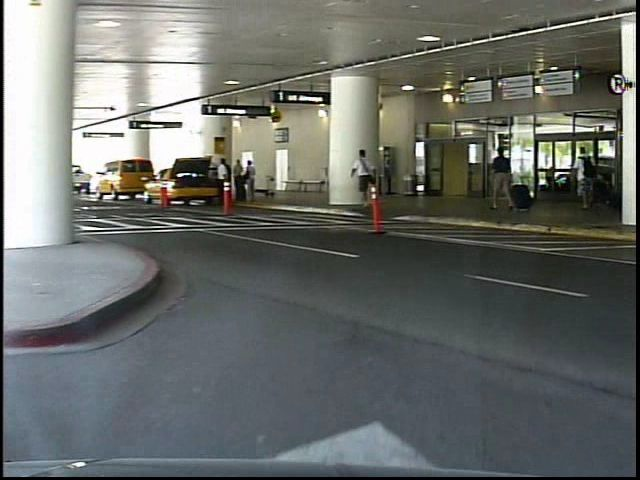person: (569, 139, 606, 222), (491, 143, 519, 211), (358, 146, 386, 212)
